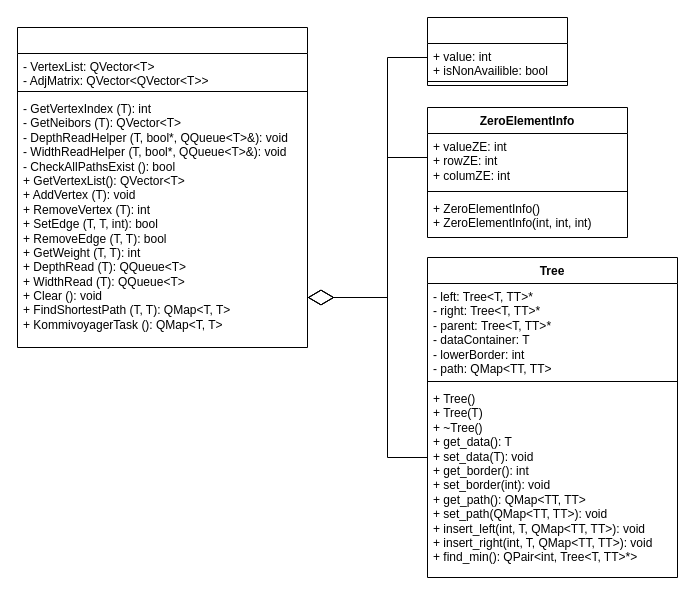
Some shapes in this 695 by 598 pixel diagram are drawn without their labels. The shapes that lost their labels are listed below. From the top down, each one's box as (x1, y1, x2, y2) in pixels, then its label:
(426, 16, 568, 86): ElementOfMatrix
(16, 26, 308, 348): Graph
